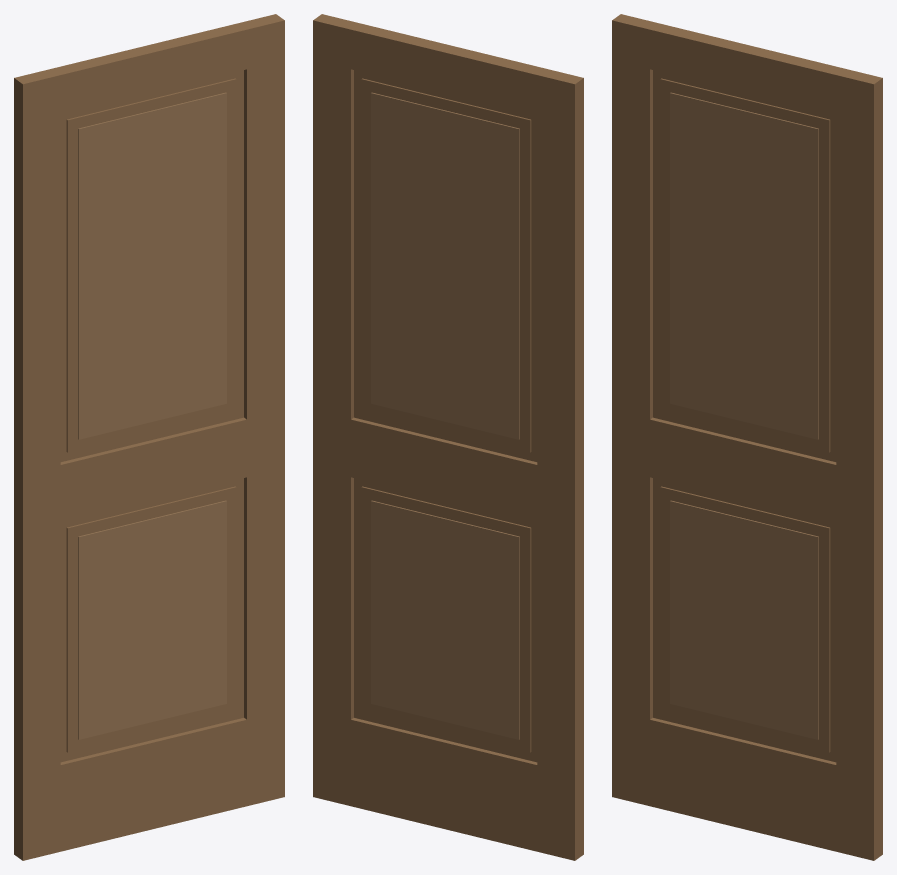
Rendered from latch_door.glb.
The picture shows the model from 3 angles, left to right: view 1: azimuth 30°, elevation 25°; view 2: azimuth 150°, elevation 25°; view 3: azimuth 330°, elevation 25°; orthographic projection.
Parts seen in each view (by area): view 1: latch_door; view 2: latch_door; view 3: latch_door.
Boxes of the visible parts, box(x1,y1,x2,y2) form: latch_door: box(14, 14, 284, 860); latch_door: box(313, 14, 583, 860); latch_door: box(612, 14, 882, 860).
Size of the model in its own units: 0.76 by 2.15 by 0.044.
